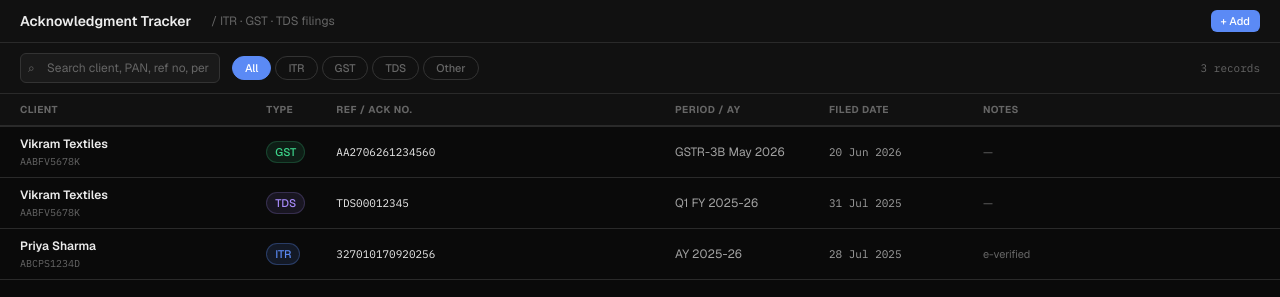
Scenario: AcknowledgmentPage — type filter › ITR filter shows only ITR records
The width and height of the screenshot is (1280, 297).
Click the button "ITR". click: (296, 68)
box: [275,56,318,80]
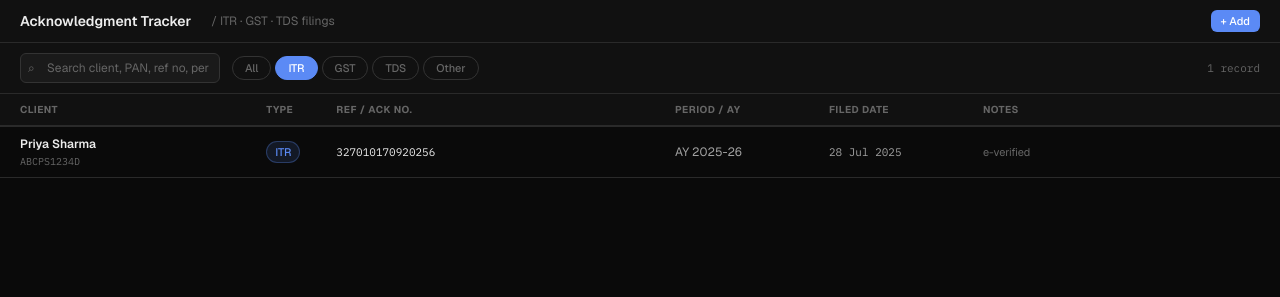
Expected: the text "Priya Sharma" is shown, [20,136,96,152]
Result: the text "1 record" is shown at [1207,60,1260,76]
Result: the text "Vikram Textiles" is gone
